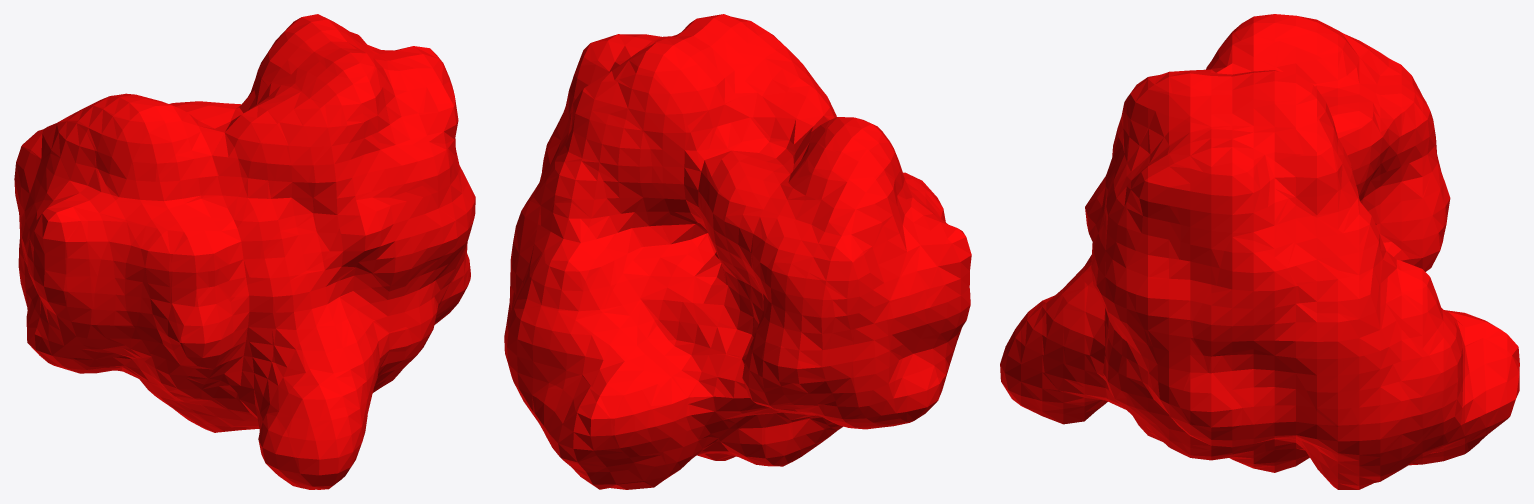
The model's file is rimO_coarse.dae.
3 renders of one model, left to right at view 1: azimuth 30°, elevation 25°; view 2: azimuth 150°, elevation 25°; view 3: azimuth 270°, elevation 25°, orthographic. The views are drawn at different scales.
Parts seen in each view (by area): view 1: rimO; view 2: rimO; view 3: rimO.
Part boxes in pixels (left/top/right/bottom): rimO: left=14, top=14, right=475, bottom=489; rimO: left=504, top=14, right=971, bottom=489; rimO: left=1000, top=14, right=1519, bottom=489.
Bounding box in the file's own units: 64.68 × 59.49 × 66.42.
